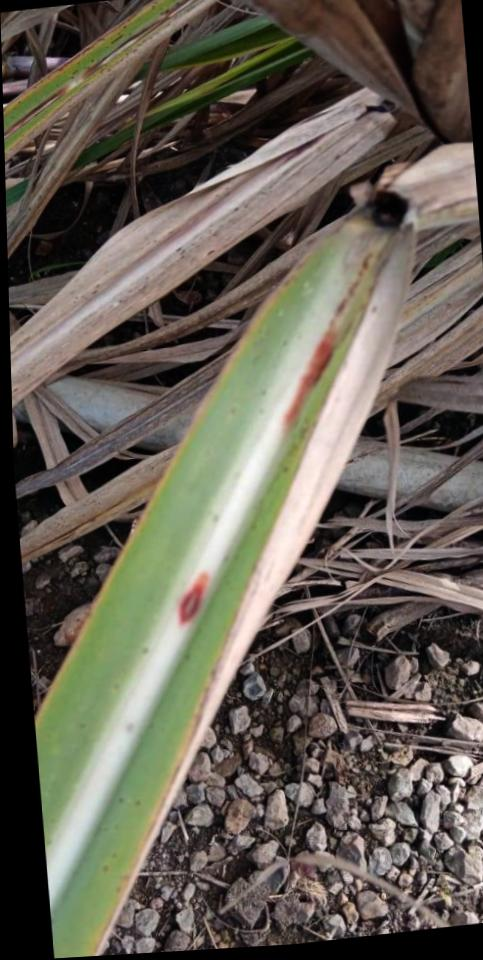RedRot: (281, 250, 374, 436), (177, 568, 209, 627)
